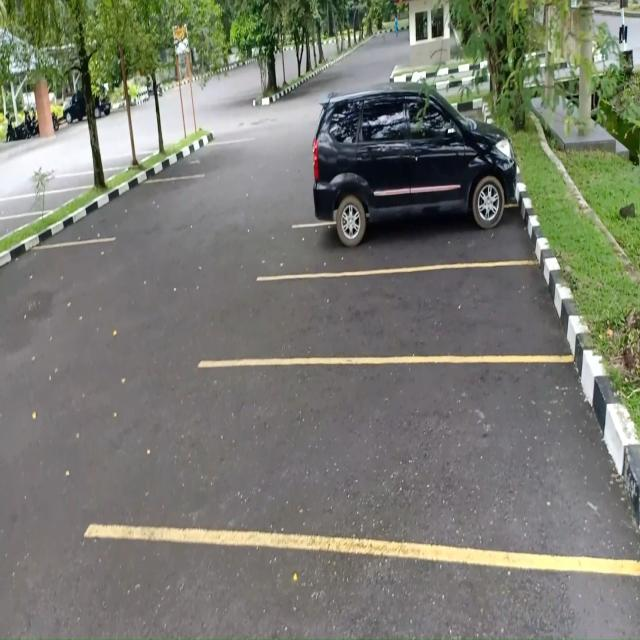empty: (200, 360, 610, 568), (255, 272, 570, 364), (104, 177, 197, 243)
occupied: (300, 157, 520, 275)
